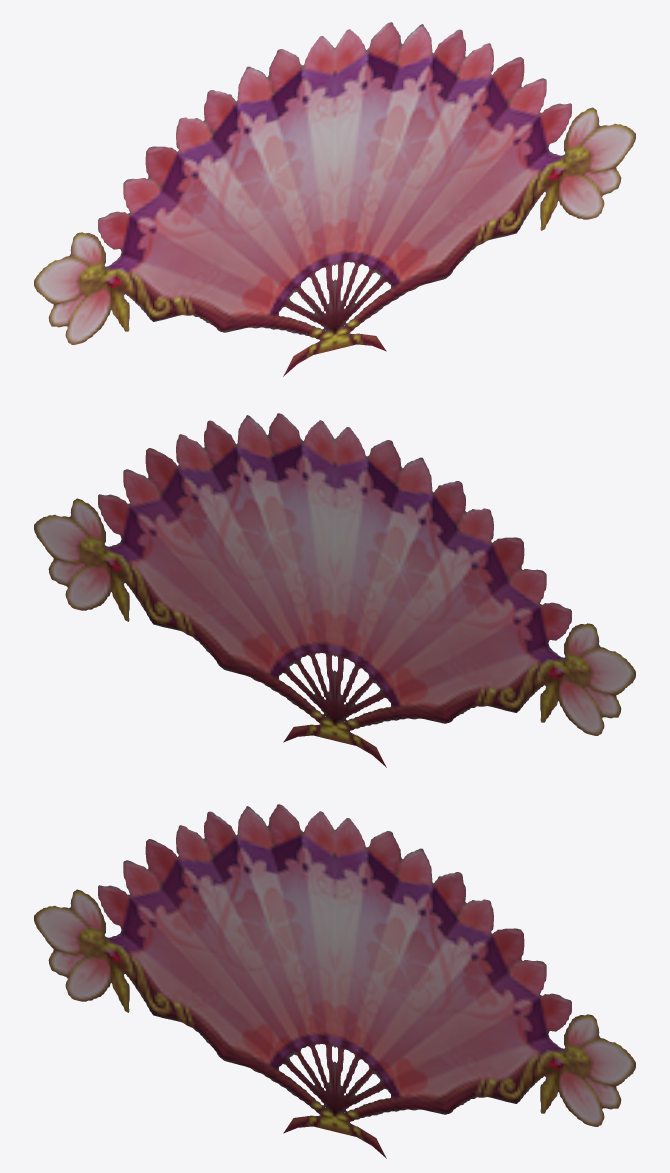
Rendered from C_SZ_LV80_YinYueTaoHuashan01.FBX.
3 renders of one model, top to bottom at view 1: azimuth 30°, elevation 25°; view 2: azimuth 150°, elevation 25°; view 3: azimuth 330°, elevation 25°, orthographic.
Parts seen in each view (by area): view 1: C_SZ_LV80_YinYueTaoHuashan01; view 2: C_SZ_LV80_YinYueTaoHuashan01; view 3: C_SZ_LV80_YinYueTaoHuashan01.
Boxes of the visible parts, x1,y1,x2,y2 form: C_SZ_LV80_YinYueTaoHuashan01: (34, 22, 635, 376); C_SZ_LV80_YinYueTaoHuashan01: (34, 413, 635, 767); C_SZ_LV80_YinYueTaoHuashan01: (34, 804, 635, 1158).
Size of the model in its own units: 75.87 by 39.09 by 1.11e-14.
